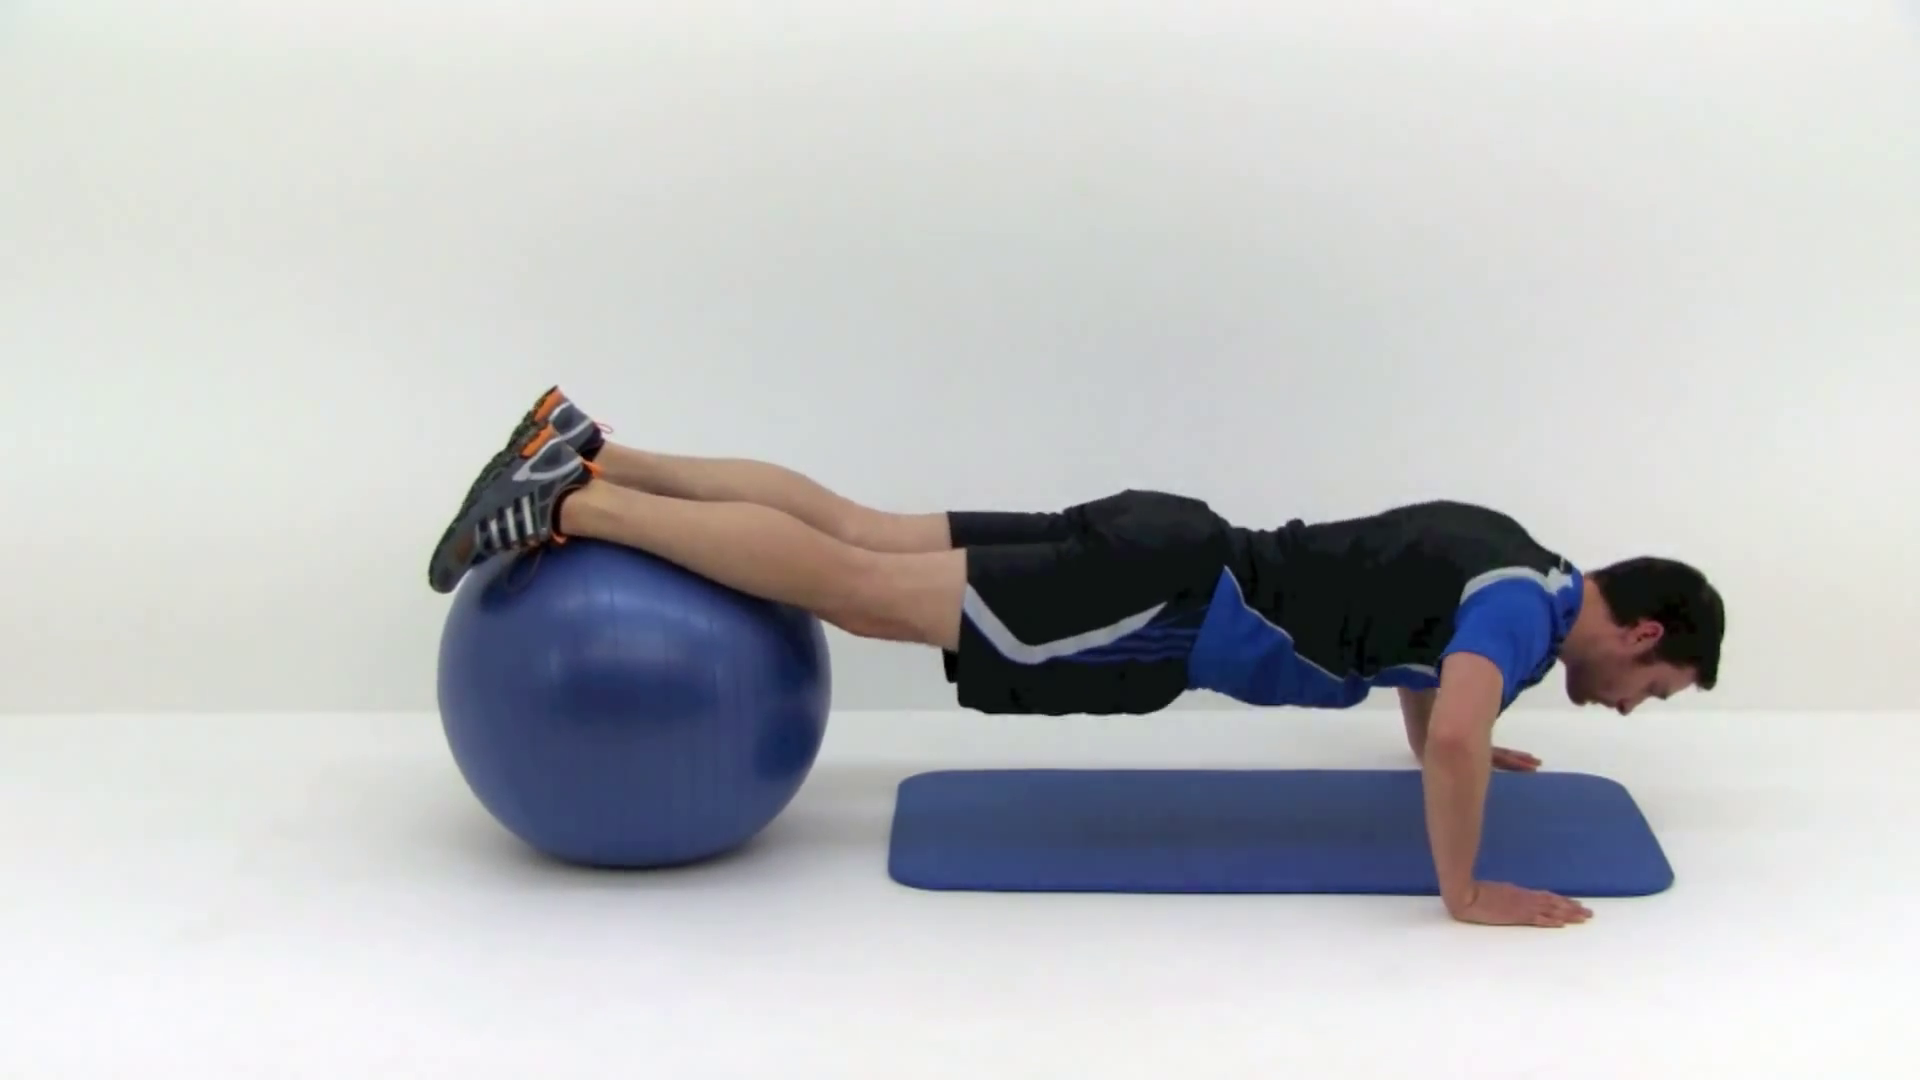yogaball: (400, 524, 843, 903)
